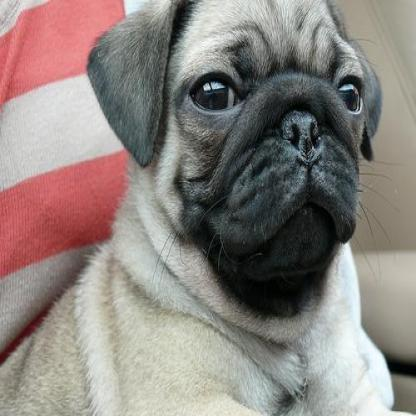pug: (0, 0, 392, 411)
